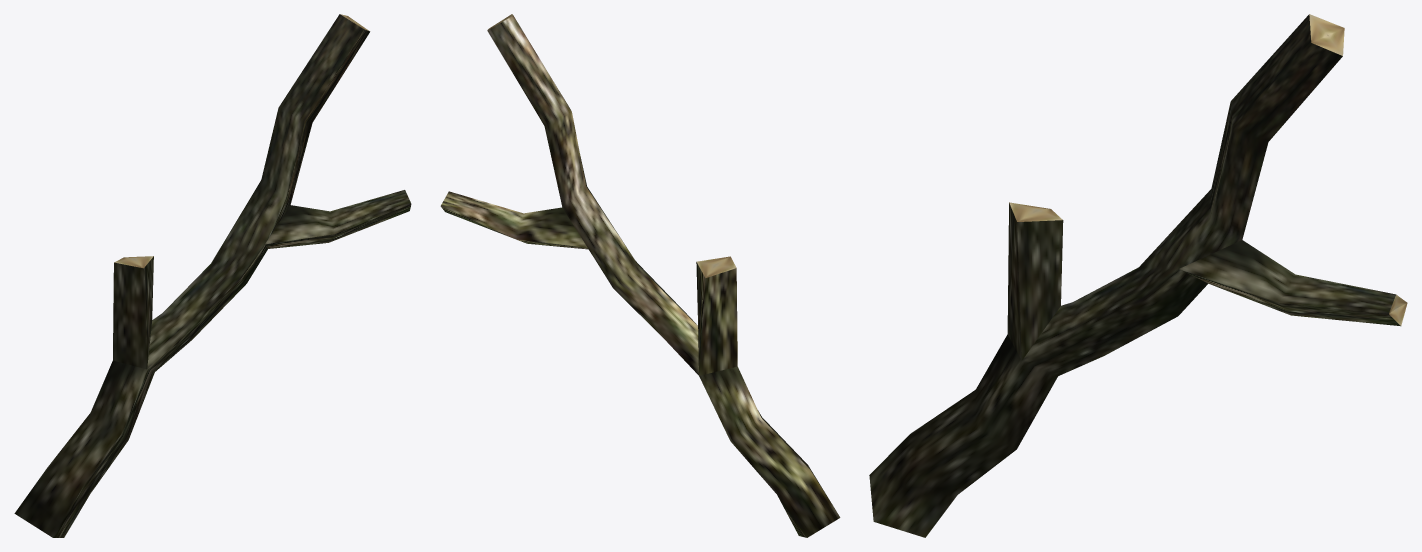
Rendered from M26_branch01.fbx.
3 renders of one model, left to right at view 1: azimuth 30°, elevation 25°; view 2: azimuth 150°, elevation 25°; view 3: azimuth 330°, elevation 25°, orthographic. The views are drawn at different scales.
Parts seen in each view (by area): view 1: M26_branch; view 2: M26_branch; view 3: M26_branch.
Part boxes in pixels (x1,y1,x2,y2): M26_branch: (14,14,411,537); M26_branch: (440,14,840,537); M26_branch: (869,14,1407,537).
Size of the model in its own units: 22.13 by 24.28 by 3.04.
